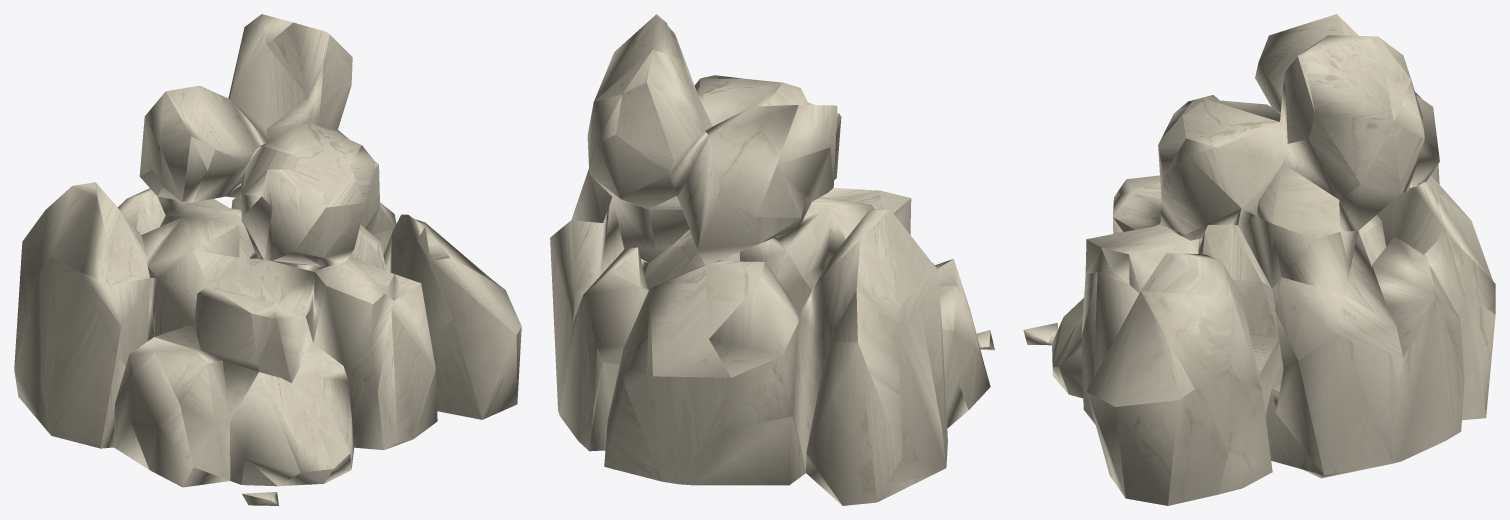
Rendered from cover_half_plains_v6_lod1.glb.
3 renders of one model, left to right at view 1: azimuth 30°, elevation 25°; view 2: azimuth 150°, elevation 25°; view 3: azimuth 270°, elevation 25°, orthographic. The views are drawn at different scales.
Parts seen in each view (by area): view 1: Mesh_0; view 2: Mesh_0; view 3: Mesh_0.
Boxes of the visible parts, left/top/right/bottom form: Mesh_0: left=14, top=14, right=521, bottom=505; Mesh_0: left=550, top=14, right=994, bottom=505; Mesh_0: left=1023, top=14, right=1495, bottom=505.
Size of the model in its own units: 0.9426 by 0.7887 by 0.8637.
1 material, 1 textured.
